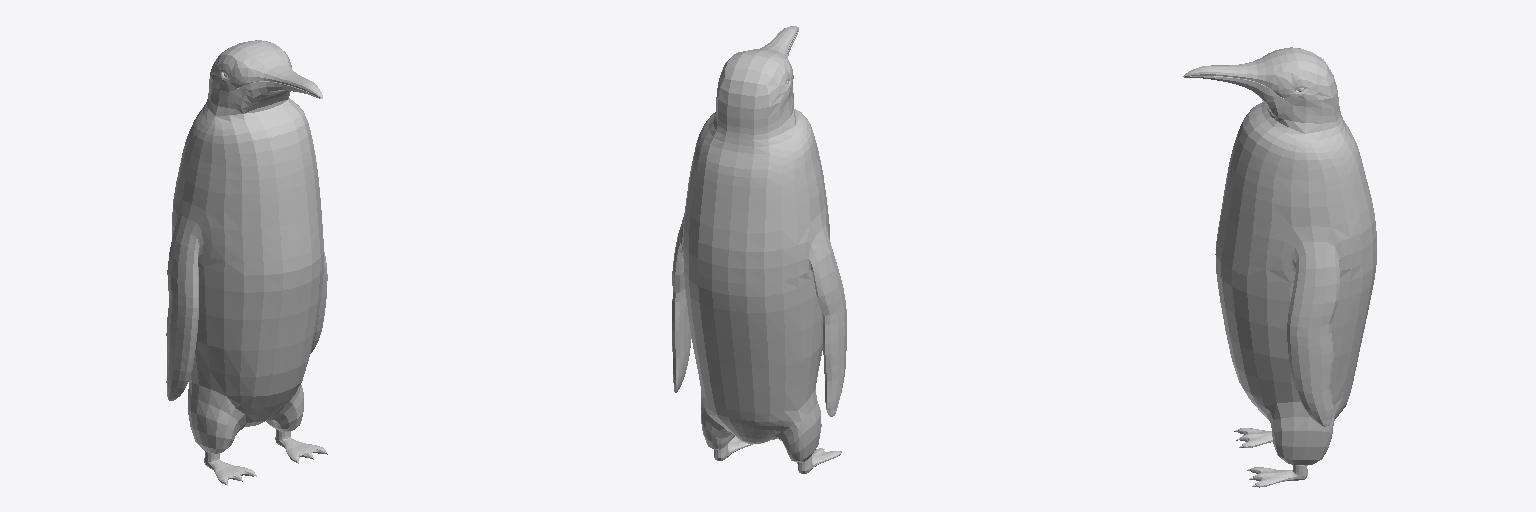
Rendered from penguin.obj.
3 renders of one model, left to right at view 1: azimuth 30°, elevation 25°; view 2: azimuth 150°, elevation 25°; view 3: azimuth 270°, elevation 25°, orthographic.
Visible parts, largest first — view 1: penguin; view 2: penguin; view 3: penguin.
Boxes of the visible parts, x1=… form: penguin: x1=166, y1=40, x2=327, y2=485; penguin: x1=672, y1=26, x2=846, y2=473; penguin: x1=1183, y1=47, x2=1376, y2=487.
Bounding box in the file's own units: 8.75 × 21.75 × 9.33.